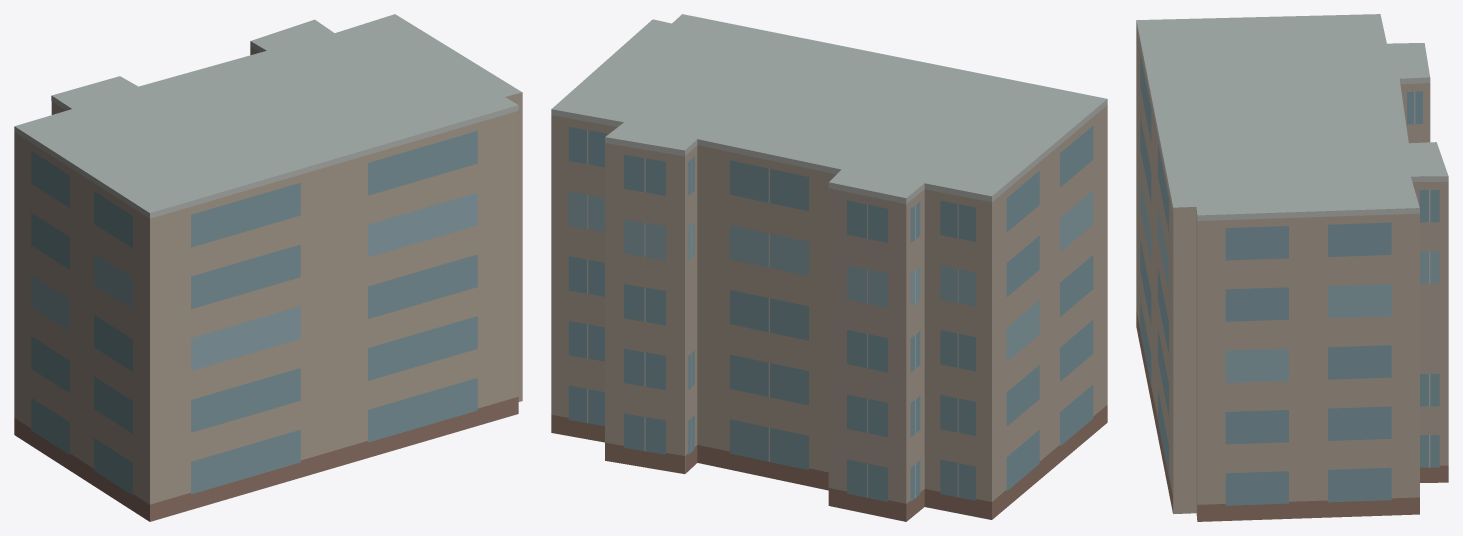
The model's file is survey-upis-32758373.glb.
The picture shows the model from 3 angles, left to right: view 1: azimuth 30°, elevation 25°; view 2: azimuth 150°, elevation 25°; view 3: azimuth 270°, elevation 25°; orthographic projection. The views are drawn at different scales.
Visible parts, largest first — view 1: survey-upis-32758373.tmp; view 2: survey-upis-32758373.tmp; view 3: survey-upis-32758373.tmp.
Boxes of the visible parts, left/top/right/bottom form: survey-upis-32758373.tmp: left=14, top=14, right=522, bottom=521; survey-upis-32758373.tmp: left=551, top=14, right=1107, bottom=521; survey-upis-32758373.tmp: left=1136, top=14, right=1448, bottom=521.
Size of the model in its own units: 18.76 by 13.3 by 12.29.
